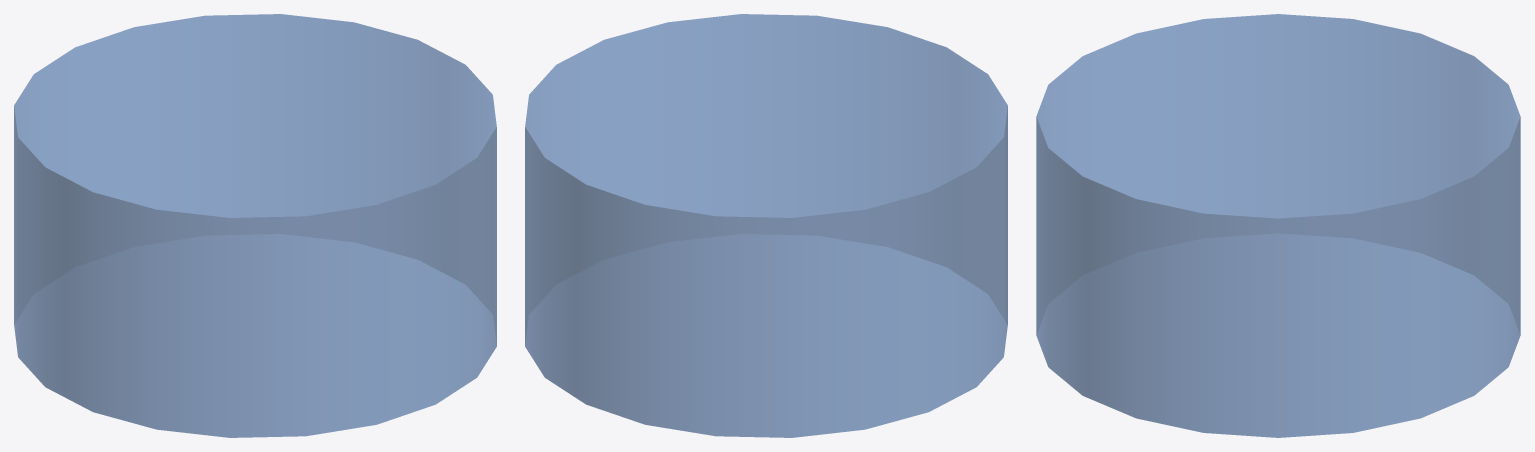
Rendered from Display.fbx.
The picture shows the model from 3 angles, left to right: view 1: azimuth 30°, elevation 25°; view 2: azimuth 150°, elevation 25°; view 3: azimuth 270°, elevation 25°; orthographic projection.
Parts seen in each view (by area): view 1: pCylinder1; view 2: pCylinder1; view 3: pCylinder1.
Boxes of the visible parts, bbox=[...] form: pCylinder1: bbox=[14, 14, 496, 437]; pCylinder1: bbox=[525, 14, 1007, 437]; pCylinder1: bbox=[1036, 14, 1520, 437].
Bounding box in the file's own units: 2 × 1 × 2.
